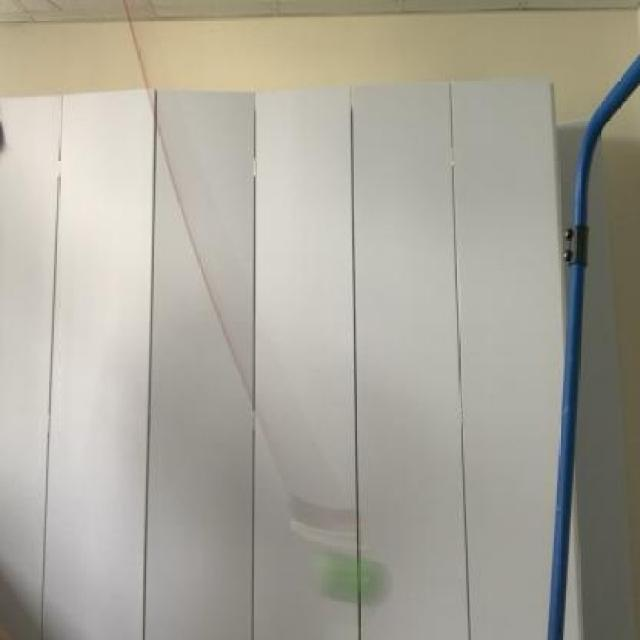baseball: (302, 534, 398, 620)
